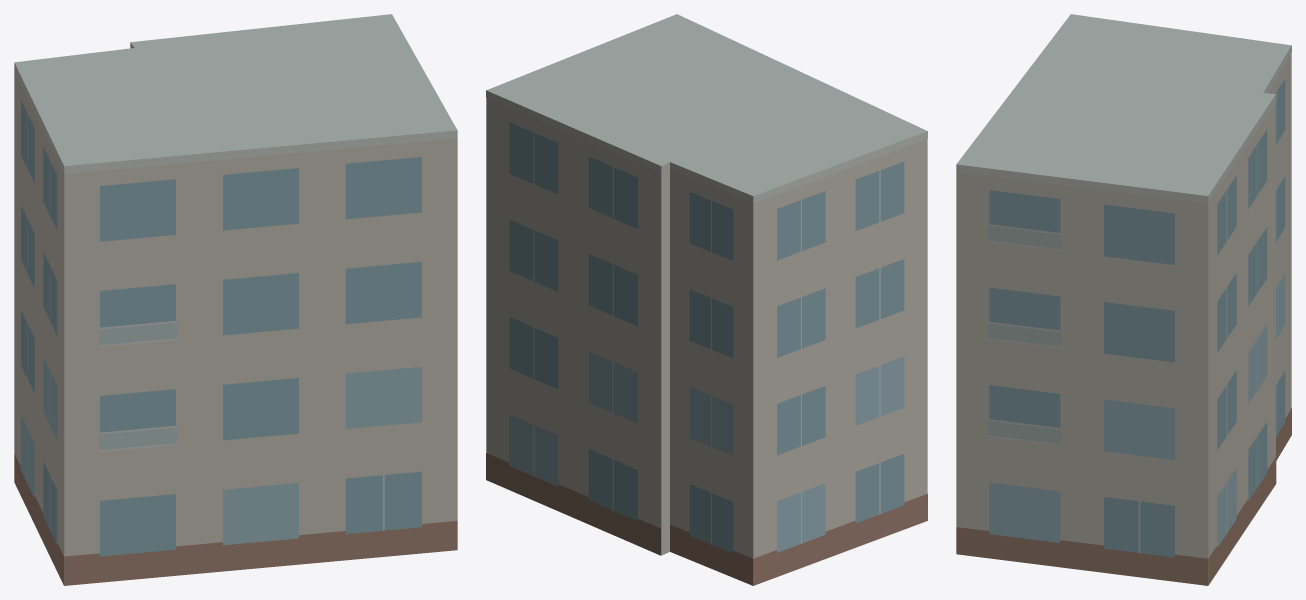
Rendered from survey-upis-32539020.glb.
3 renders of one model, left to right at view 1: azimuth 30°, elevation 25°; view 2: azimuth 150°, elevation 25°; view 3: azimuth 270°, elevation 25°, orthographic. The views are drawn at different scales.
Visible parts, largest first — view 1: survey-upis-32539020.tmp; view 2: survey-upis-32539020.tmp; view 3: survey-upis-32539020.tmp.
Part boxes in pixels (bbox=[...]): survey-upis-32539020.tmp: bbox=[14, 14, 457, 585]; survey-upis-32539020.tmp: bbox=[486, 14, 927, 585]; survey-upis-32539020.tmp: bbox=[956, 14, 1291, 585].
Size of the model in its own units: 12.93 by 12.9 by 10.07.
